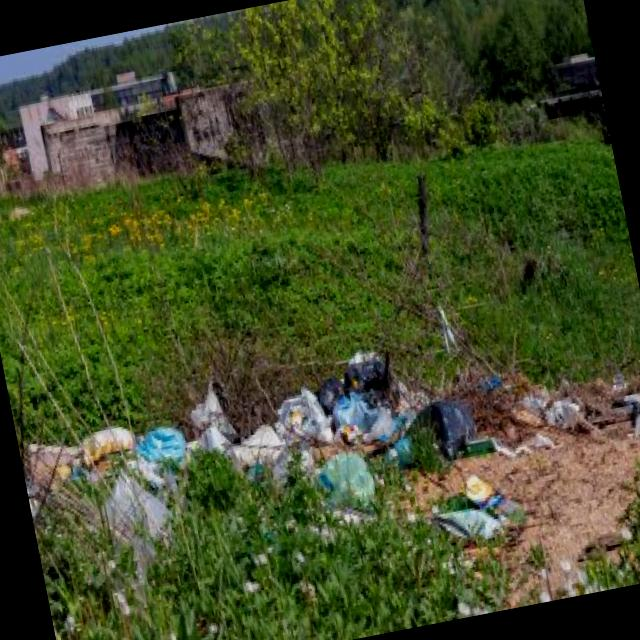garbage: (13, 303, 633, 582)
